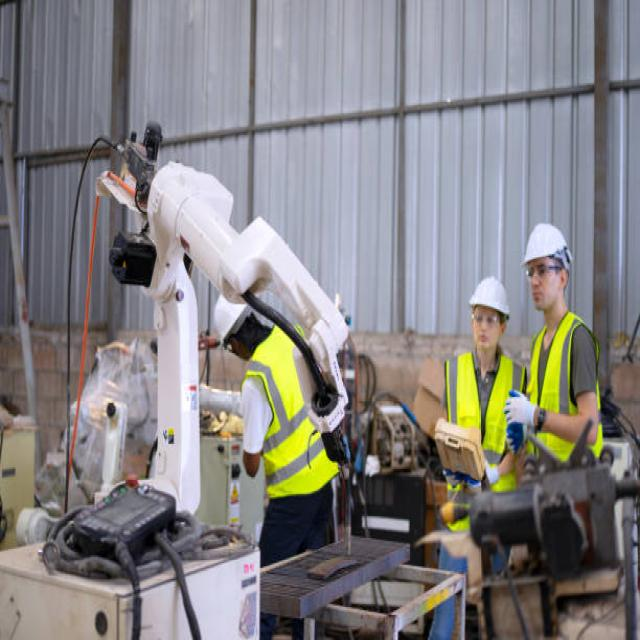Robotic-arm: (104, 141, 356, 521)
